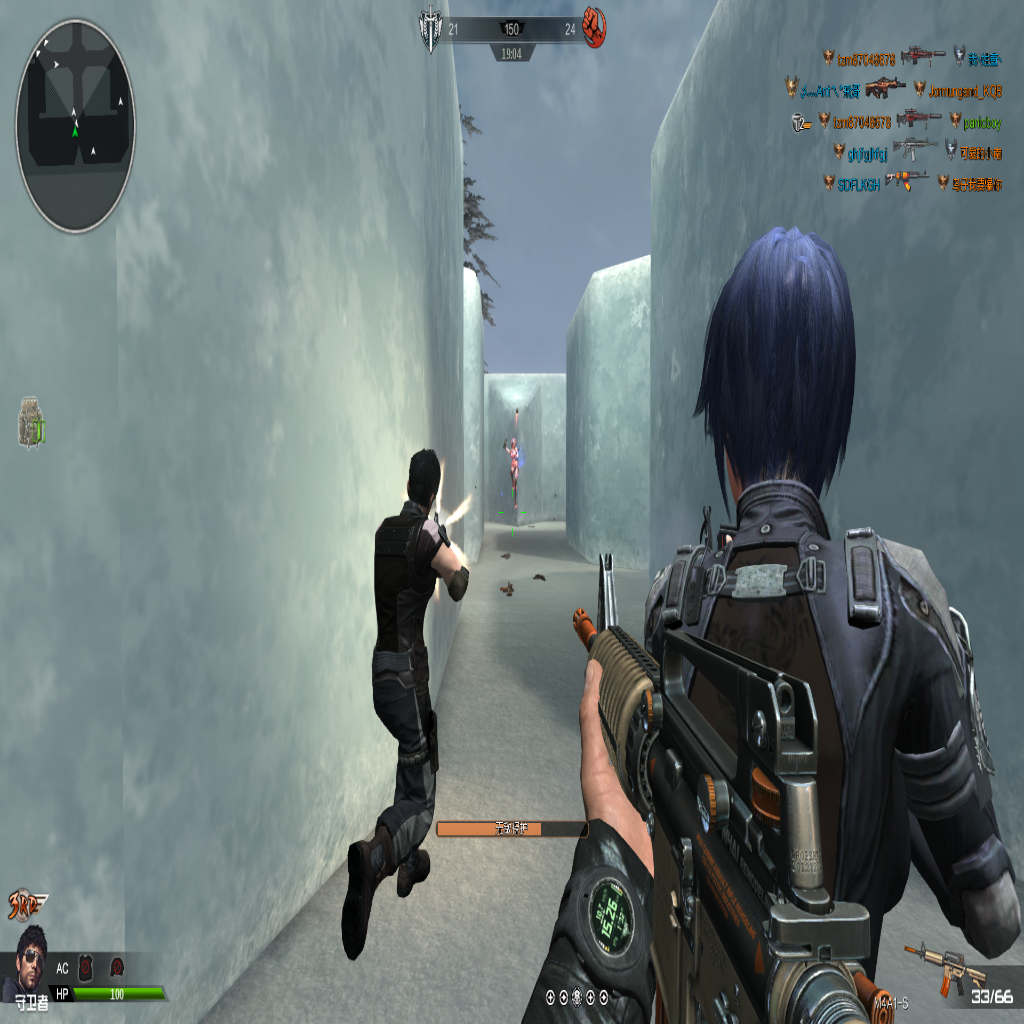ct: (340, 463, 474, 947)
